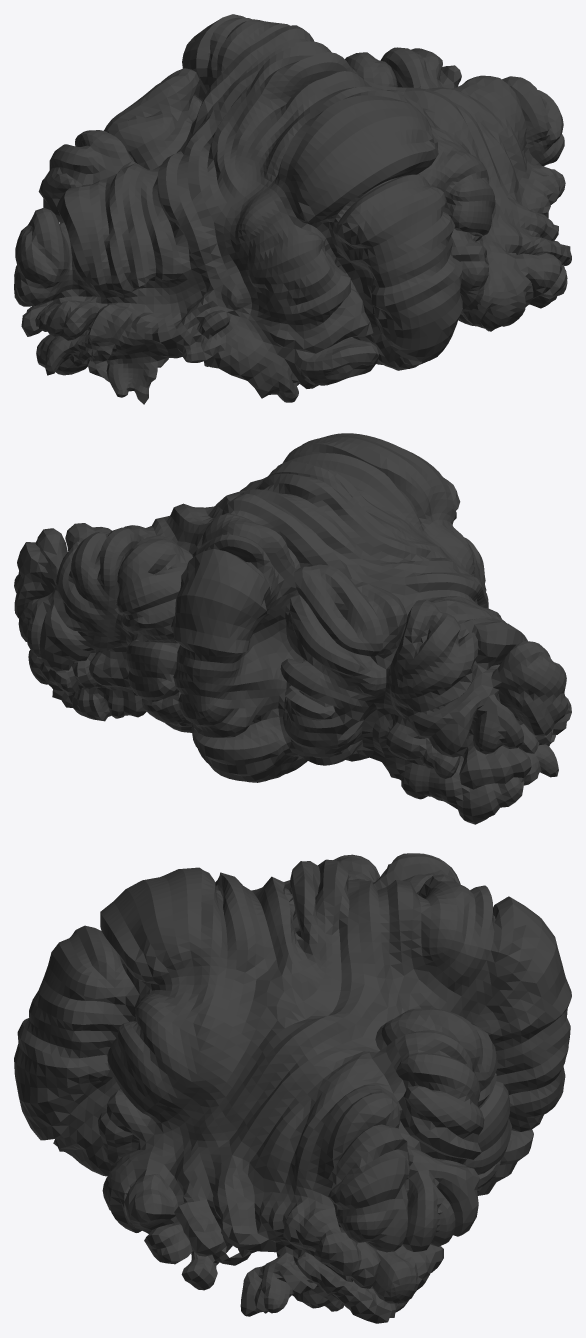
File: Cerebellum_low_Cerebellum_low.glb
3 views of the same model, one above another, from view 1: azimuth 30°, elevation 25°; view 2: azimuth 150°, elevation 25°; view 3: azimuth 270°, elevation 25° (orthographic). The views are drawn at different scales.
Visible parts, largest first — view 1: Cerebellum_low_Cerebellum_low; view 2: Cerebellum_low_Cerebellum_low; view 3: Cerebellum_low_Cerebellum_low.
Boxes of the visible parts, x1,y1,x2,y2 form: Cerebellum_low_Cerebellum_low: (14,14,571,404); Cerebellum_low_Cerebellum_low: (14,433,571,824); Cerebellum_low_Cerebellum_low: (14,853,571,1323).
Size of the model in its own units: 36.4 by 18.43 by 26.71.
Materials: 1 (1 with a texture image).
